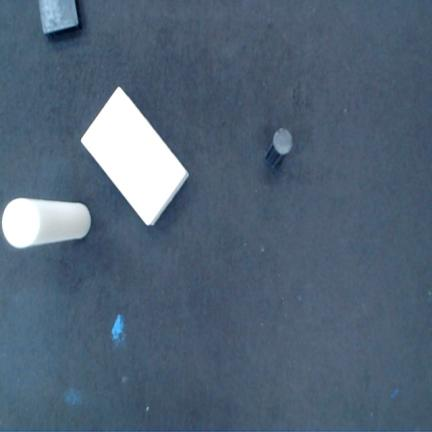Cilindro: (2, 198, 90, 249), (265, 128, 293, 167)
Paralelepipedo: (82, 84, 191, 226), (38, 0, 79, 34)
